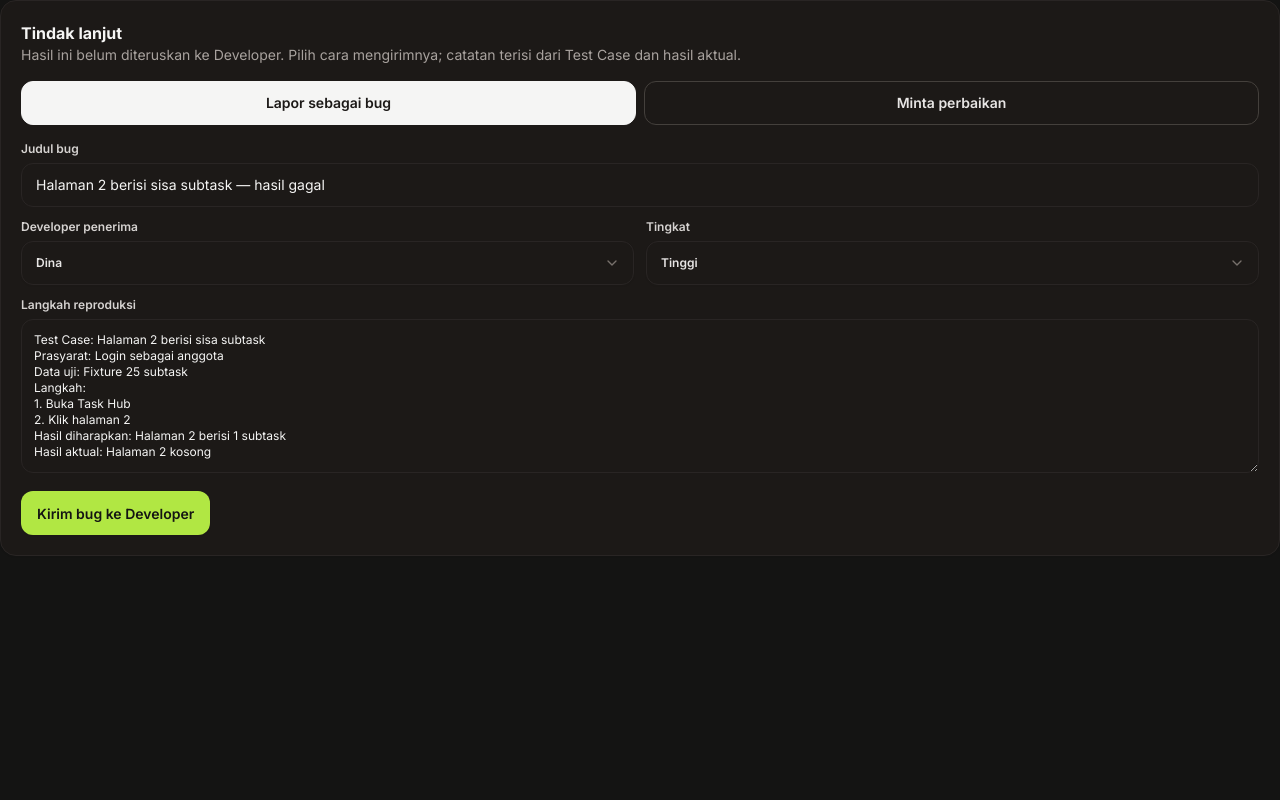
Test case: TestCaseFollowUpPanel (AC-3.5) › explains why changes cannot be requested when no subtask is in review
This screenshot has width=1280, height=800.
Click the button "Minta perbaikan". click: (952, 103)
box: [644, 81, 1259, 125]
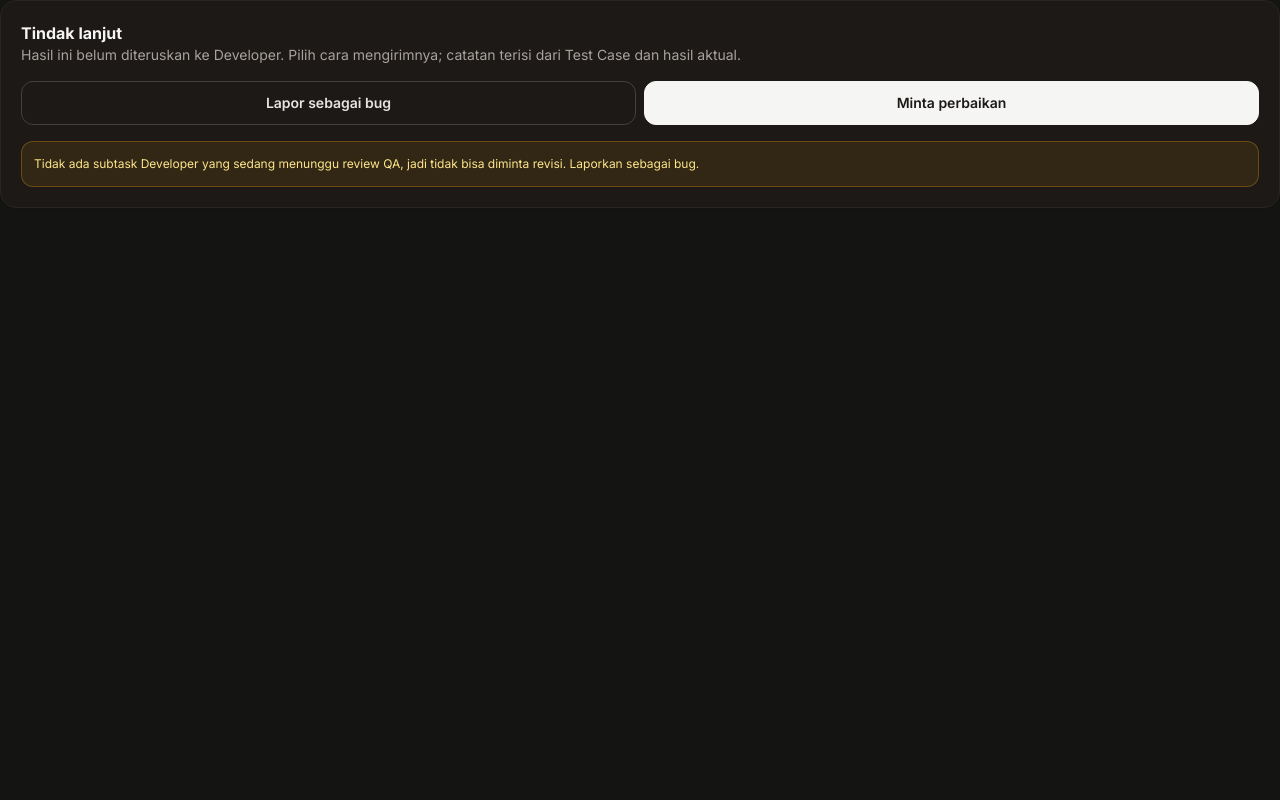
Expected: the text "Tidak ada subtask Developer yang sedang menunggu review" is shown, [34, 156, 699, 171]
